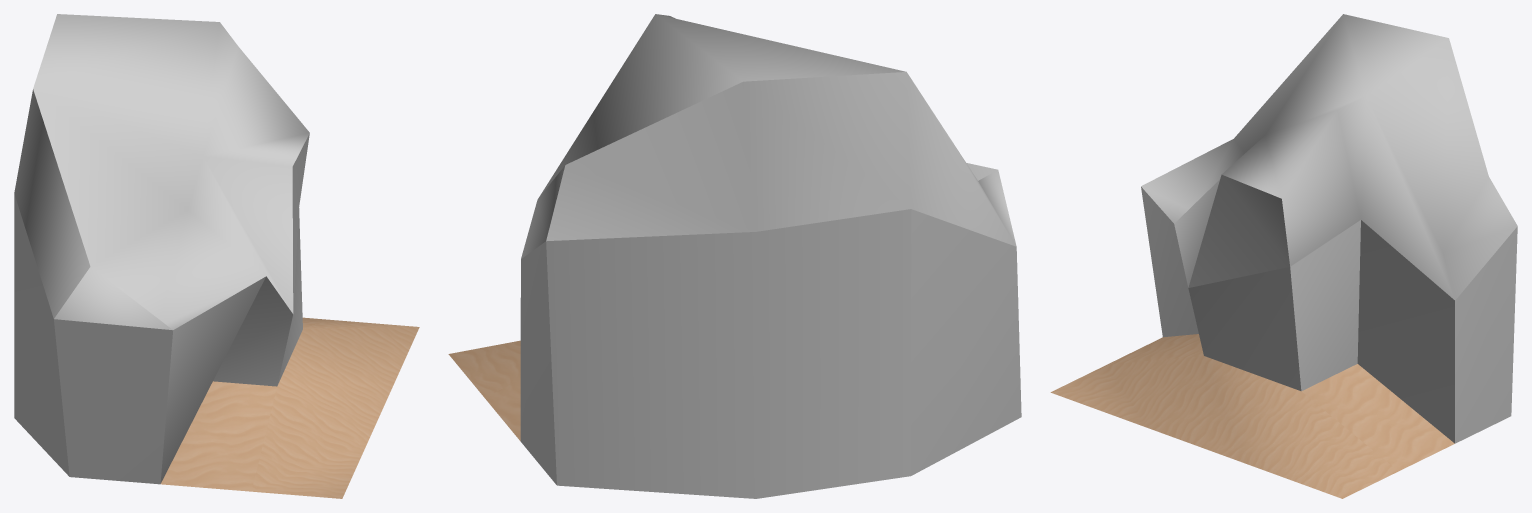
Rendered from far_mountian.FBX.
The picture shows the model from 3 angles, left to right: view 1: azimuth 30°, elevation 25°; view 2: azimuth 150°, elevation 25°; view 3: azimuth 270°, elevation 25°; orthographic projection. The views are drawn at different scales.
Visible parts, largest first — view 1: far_mountain; view 2: far_mountain; view 3: far_mountain.
Boxes of the visible parts, left/top/right/bottom form: far_mountain: left=14, top=14, right=419, bottom=498; far_mountain: left=448, top=14, right=1021, bottom=498; far_mountain: left=1050, top=14, right=1517, bottom=498.
Size of the model in its own units: 13714 by 10730 by 14118.
